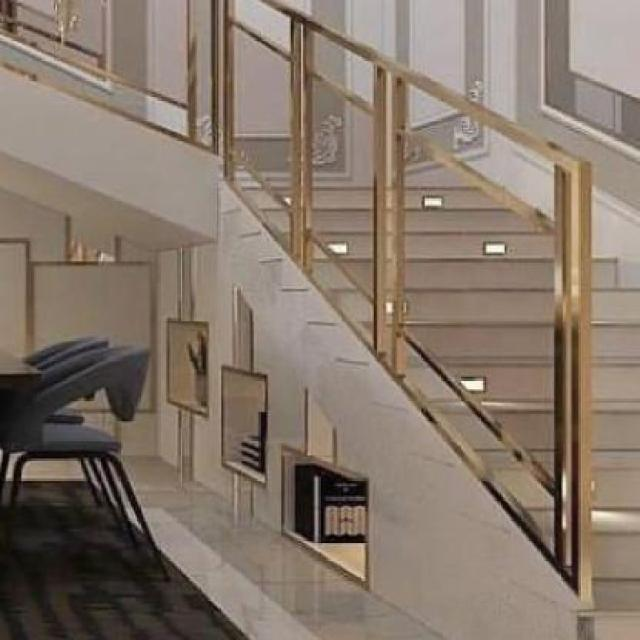stair: (203, 76, 640, 638)
